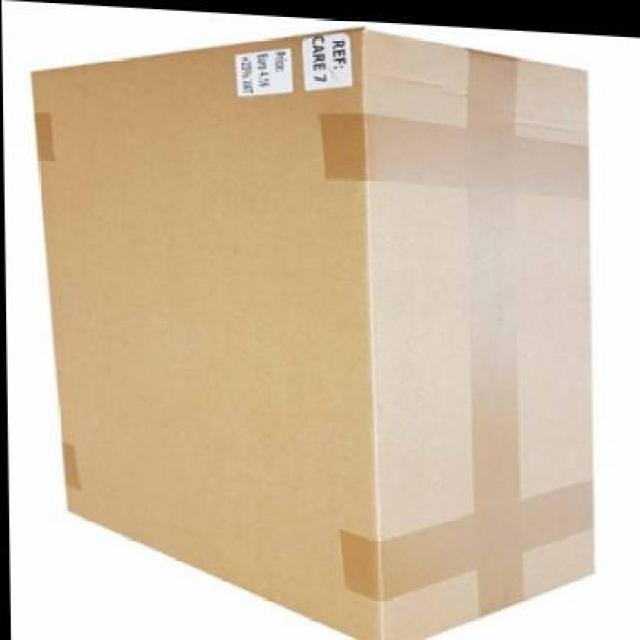box: (28, 4, 597, 638)
